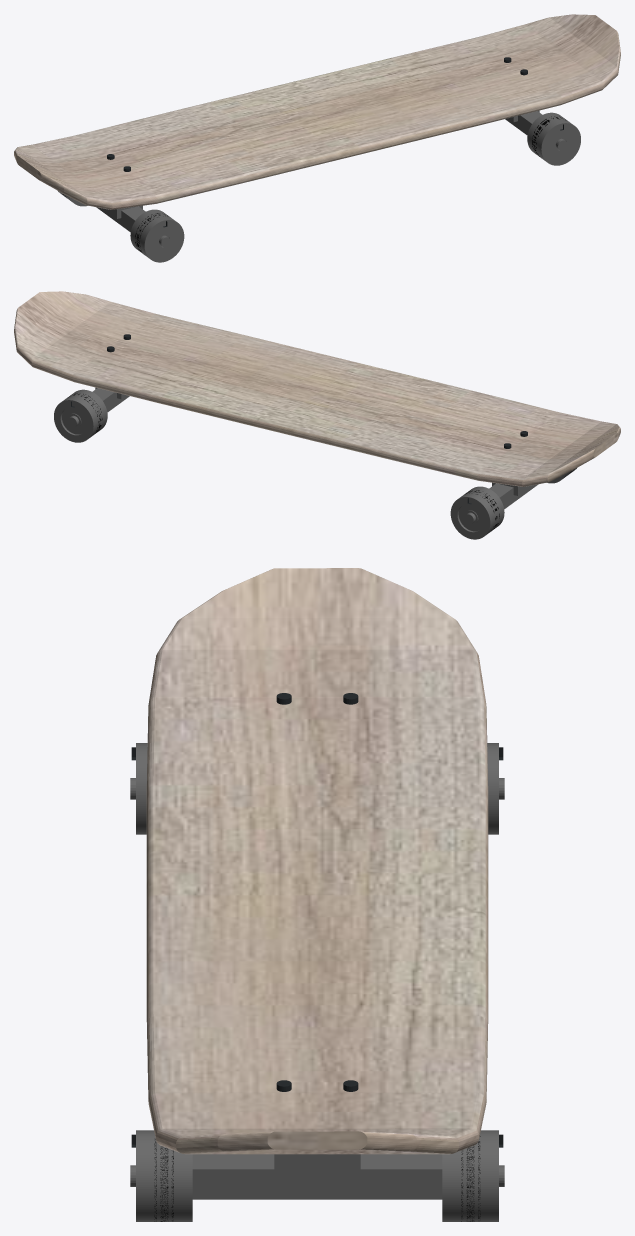
The model's file is Sports_Skateboard__0000.glb.
3 renders of one model, top to bottom at view 1: azimuth 30°, elevation 25°; view 2: azimuth 150°, elevation 25°; view 3: azimuth 270°, elevation 25°, orthographic. The views are drawn at different scales.
Parts seen in each view (by area): view 1: deck::deck_board, rear_wheel_0::wheel_rim, front_wheel_0::wheel_rim, rear_hanger::hanger, front_hanger::hanger; view 2: deck::deck_board, front_wheel_1::wheel_rim, rear_wheel_1::wheel_rim, rear_hanger::hanger, front_hanger::hanger; view 3: deck::deck_board, front_hanger::hanger, front_wheel_0::wheel_rim, front_wheel_1::wheel_rim, rear_wheel_1::wheel_rim, rear_wheel_0::wheel_rim.
Boxes of the visible parts, x1,y1,x2,y2 form: deck::deck_board: (14, 14, 620, 209); rear_wheel_0::wheel_rim: (130, 209, 184, 262); front_wheel_0::wheel_rim: (527, 112, 580, 165); rear_hanger::hanger: (96, 205, 170, 247); front_hanger::hanger: (505, 110, 567, 150); deck::deck_board: (14, 291, 620, 486); front_wheel_1::wheel_rim: (54, 389, 107, 442); rear_wheel_1::wheel_rim: (450, 486, 504, 539); rear_hanger::hanger: (464, 482, 538, 524); front_hanger::hanger: (67, 387, 129, 427); deck::deck_board: (146, 568, 488, 1154); front_hanger::hanger: (130, 1154, 504, 1199); front_wheel_0::wheel_rim: (136, 1130, 192, 1221); front_wheel_1::wheel_rim: (442, 1130, 498, 1221); rear_wheel_1::wheel_rim: (487, 743, 498, 834); rear_wheel_0::wheel_rim: (136, 743, 147, 834).
Bounding box in the file's own units: 0.8 × 0.1154 × 0.2248.
4 materials, 2 textured.
